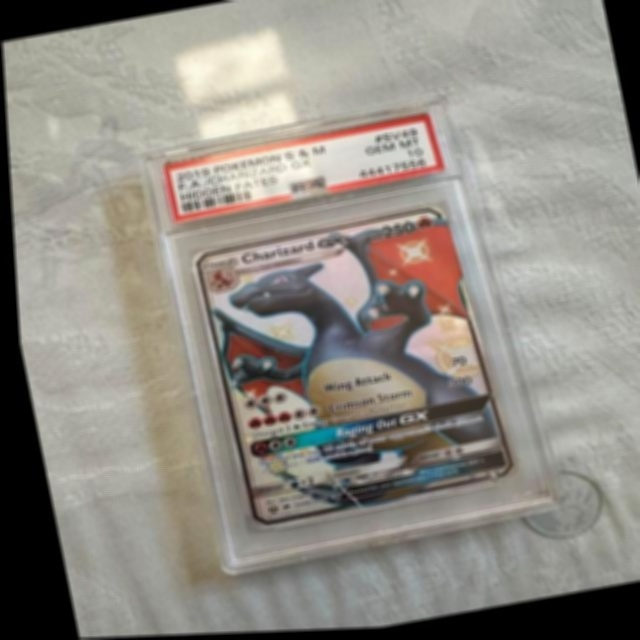card: (188, 208, 515, 531)
